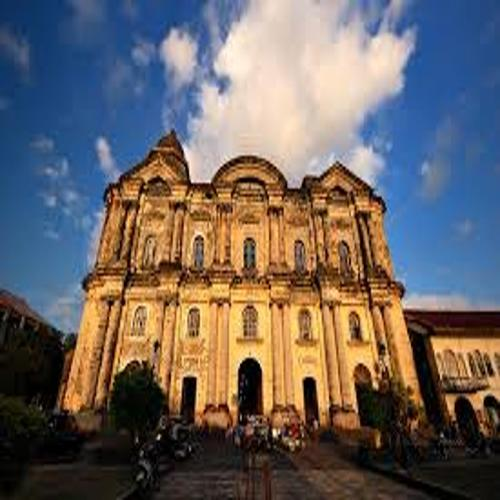Taal Basilica Church: (50, 121, 430, 461)
